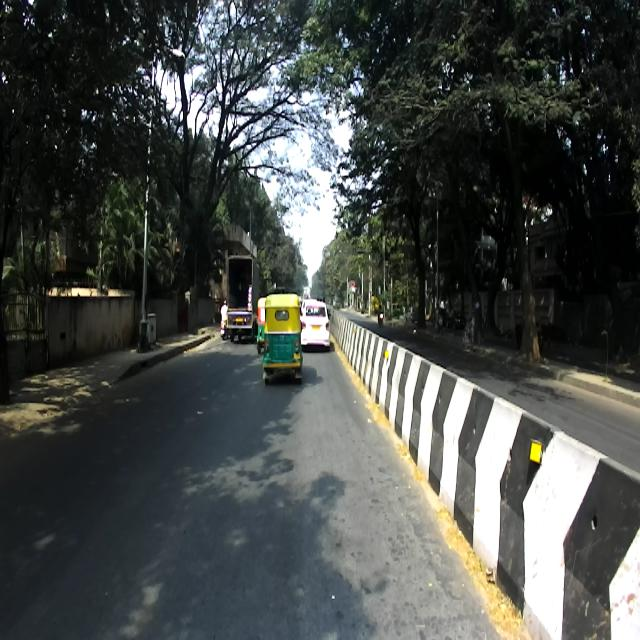auto ahead at: (261, 296, 301, 380)
car ahead at: (302, 303, 330, 345)
truck ahead at: (223, 251, 260, 342)
